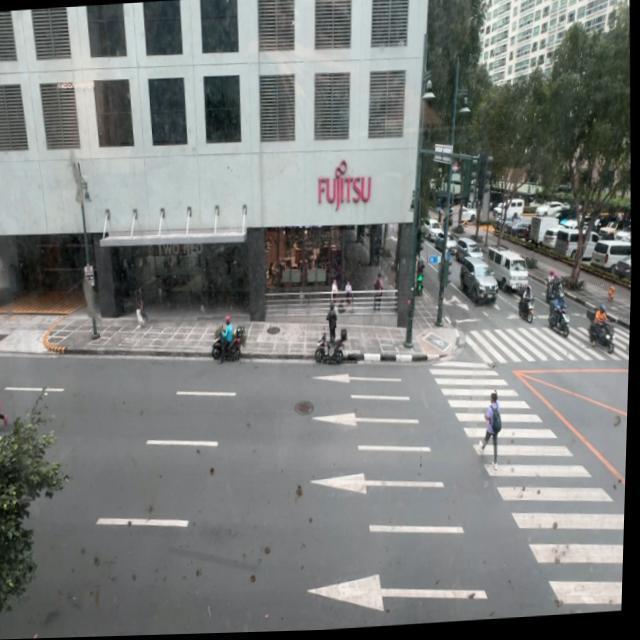jaywalking: (0, 368, 12, 426)
